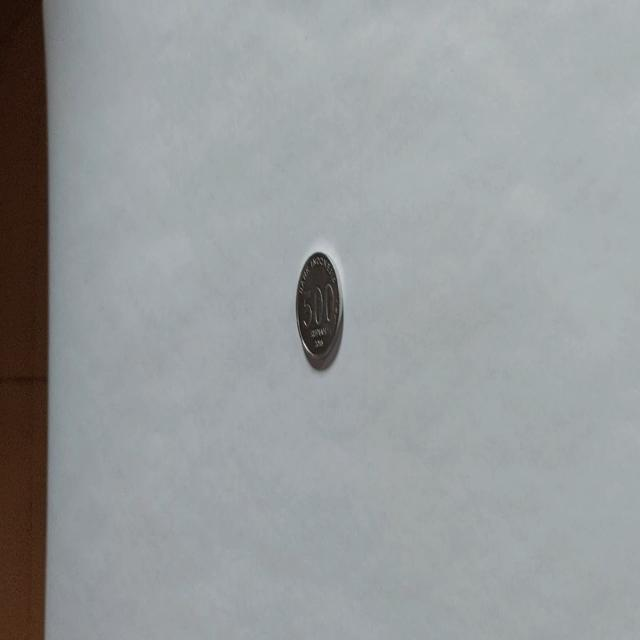lima ratus rupiah: (295, 250, 343, 370)
